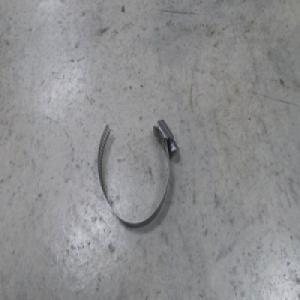AdjustableClamp: (93, 121, 175, 233)
